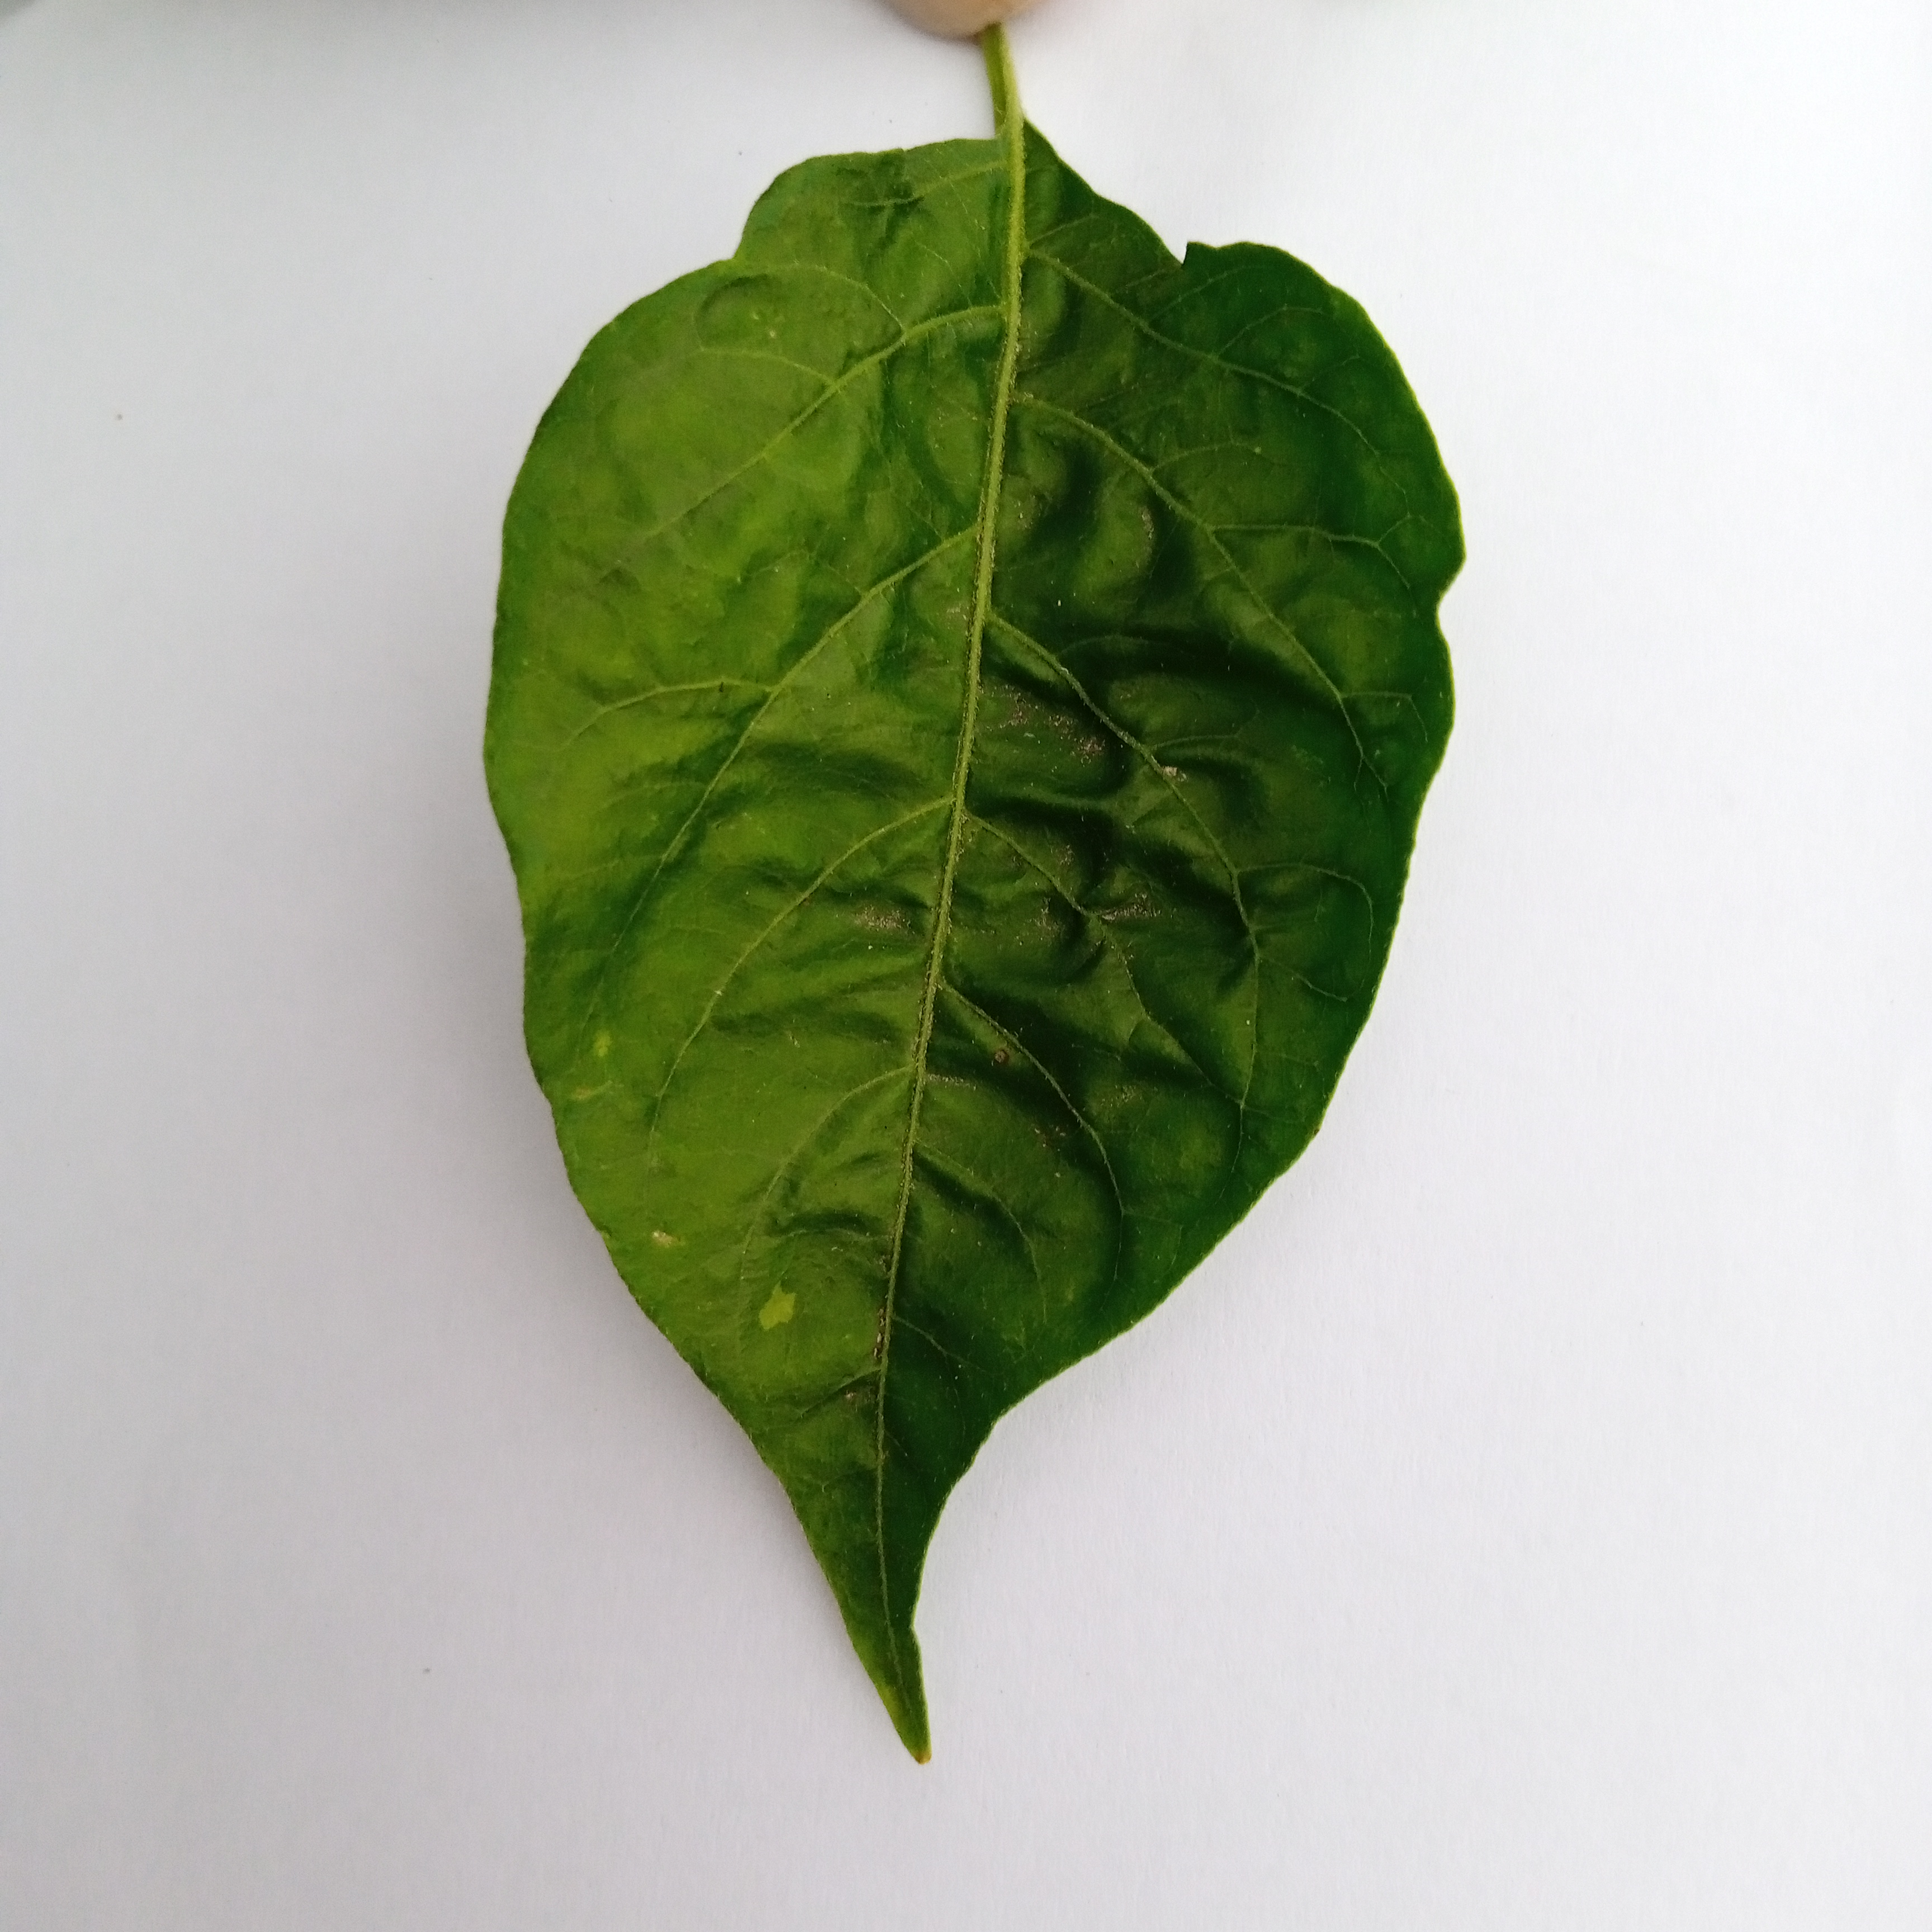Leaf: (442, 103, 1500, 1775)
